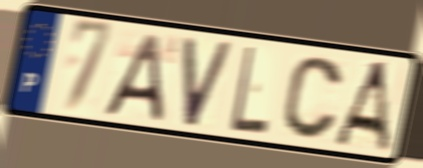7: (56, 17, 115, 119)
A: (100, 31, 165, 124), (331, 58, 392, 156)
C: (280, 54, 346, 143)
L: (228, 43, 271, 137)
V: (181, 34, 236, 130)
